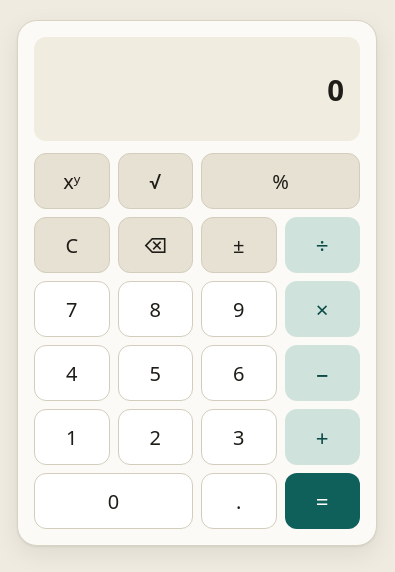
Test: Calculator: errors › C clears an error
The image size is (395, 572).
Click the button "1": (72, 437) x1=34 y1=409 x2=110 y2=465
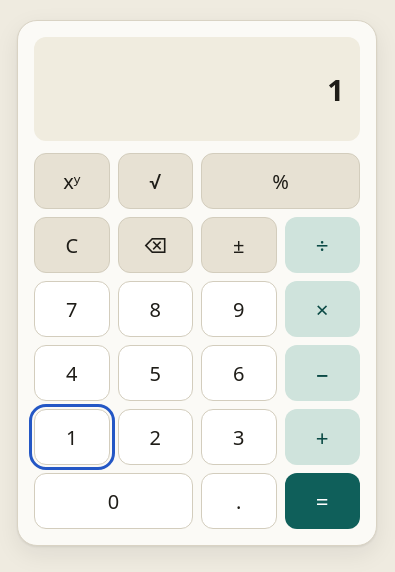
Click the button named "divide": (322, 245) x1=284 y1=217 x2=360 y2=273
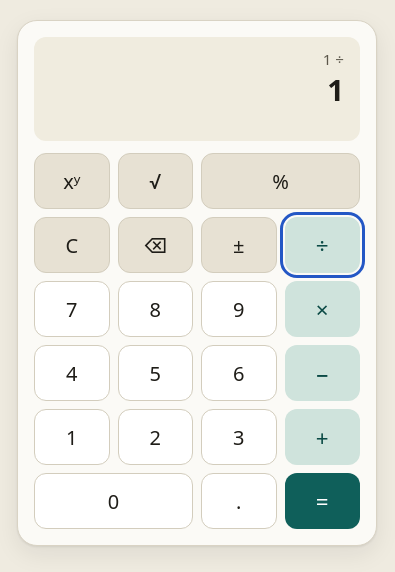
Click the button "0": (114, 501) x1=34 y1=473 x2=193 y2=529
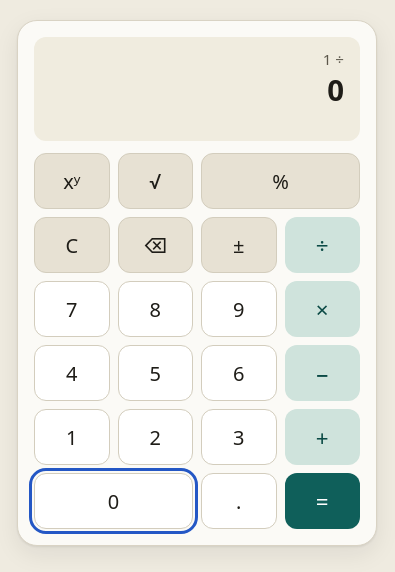
Click the button named "equals": (322, 501) x1=284 y1=473 x2=360 y2=529
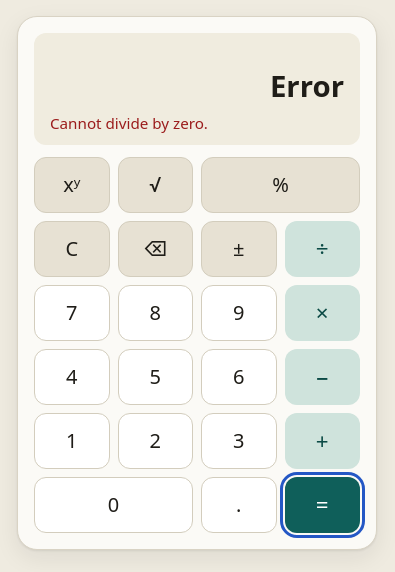
Expected: the message "Cannot divide by zero." is shown, x1=50 y1=113 x2=208 y2=133
Click the button named "clear": (72, 249) x1=34 y1=221 x2=110 y2=277
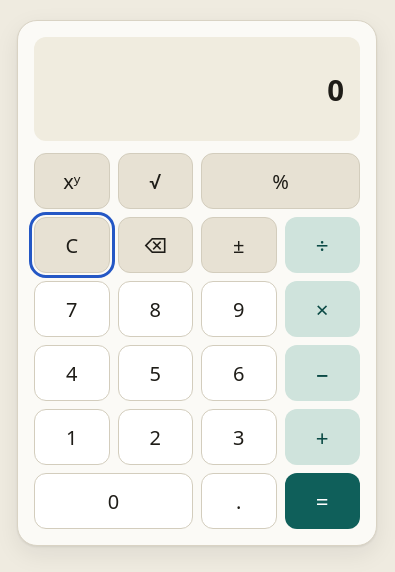
Expected: the message "Cannot divide by zero." is gone
Expected: the message reads "0", x1=327 y1=70 x2=344 y2=110
